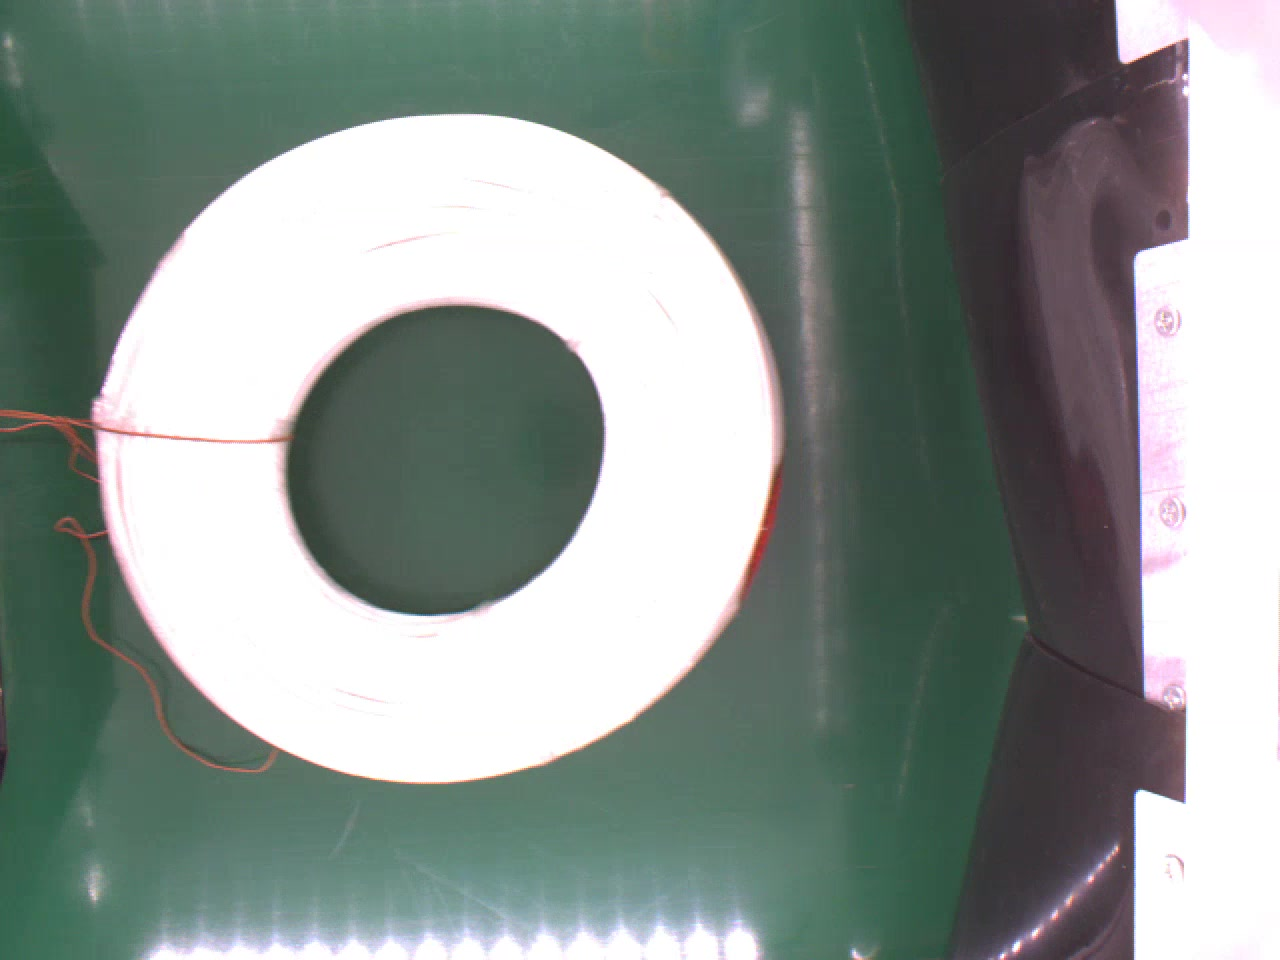white: (90, 111, 800, 782)
